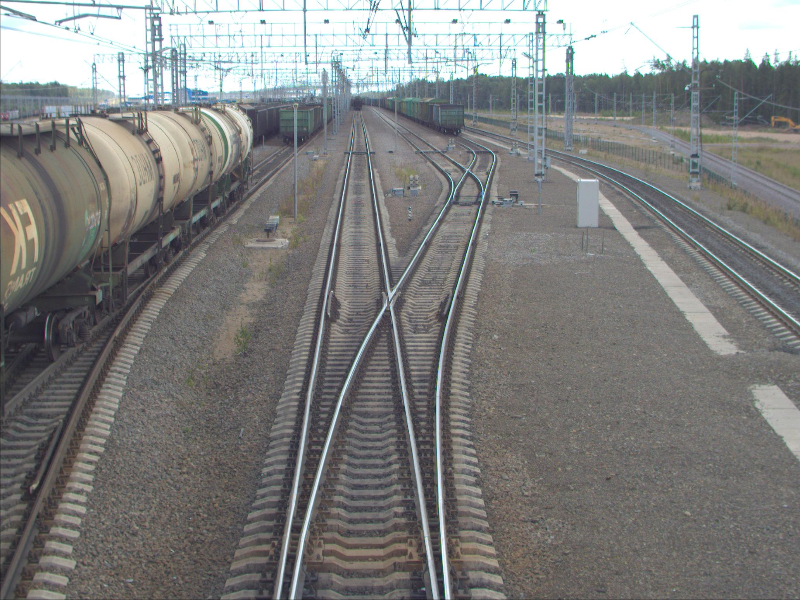left: (451, 167, 485, 202)
